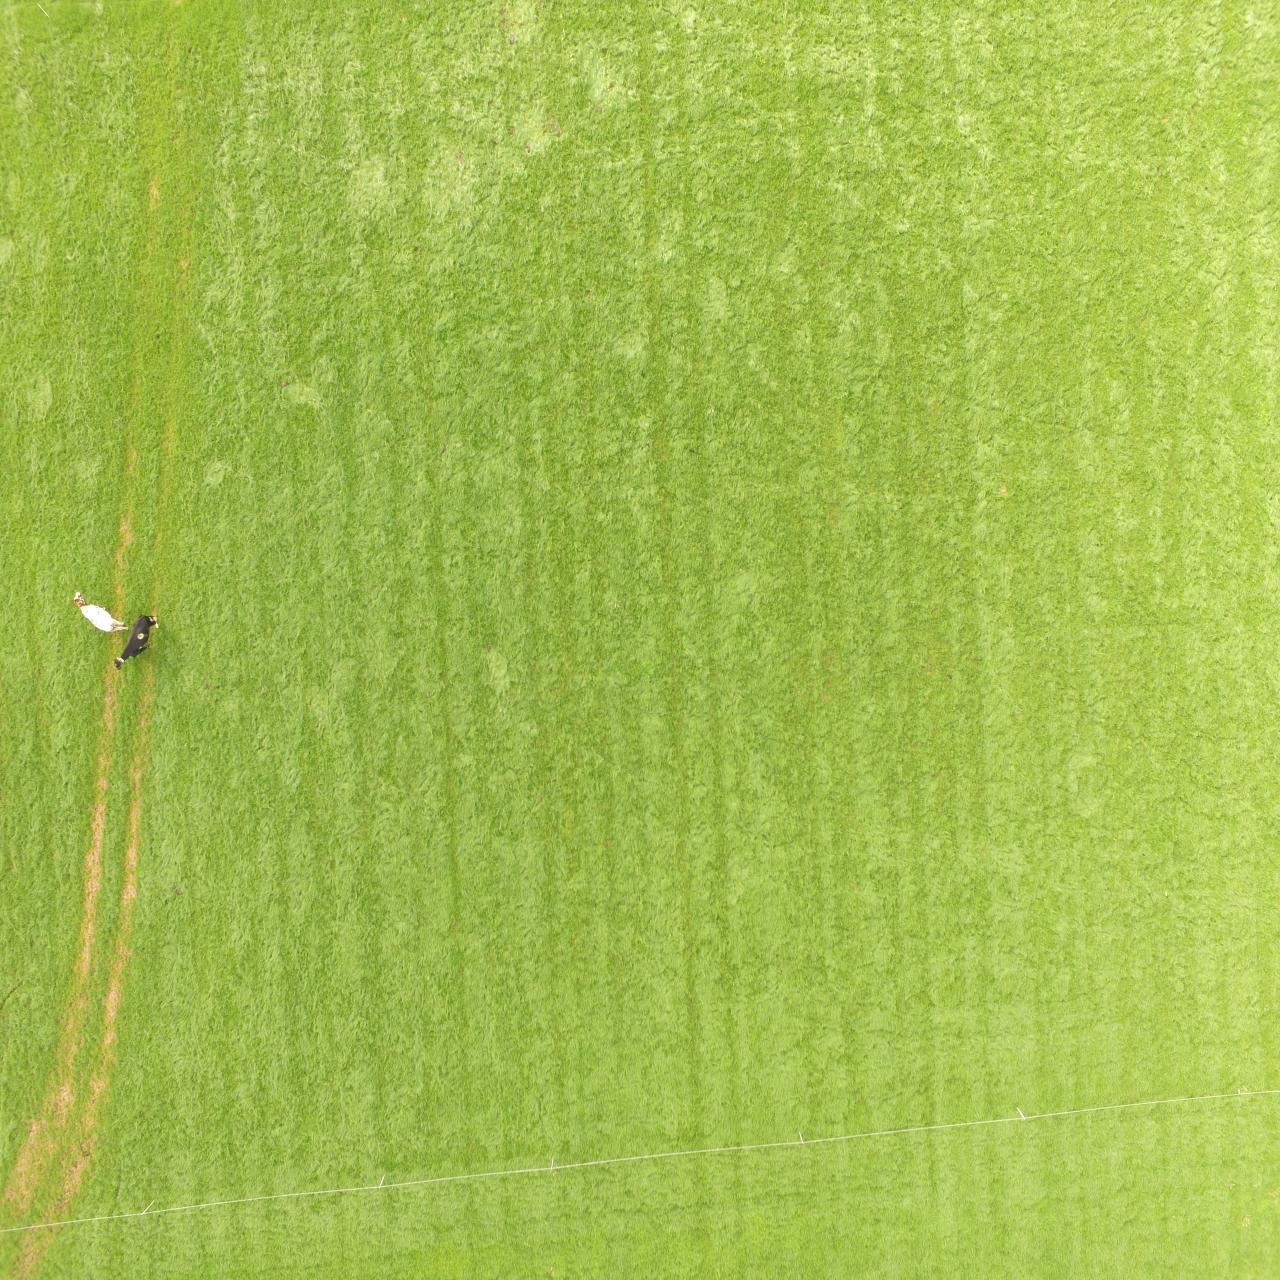cow: (114, 613, 159, 673), (73, 591, 129, 633)
